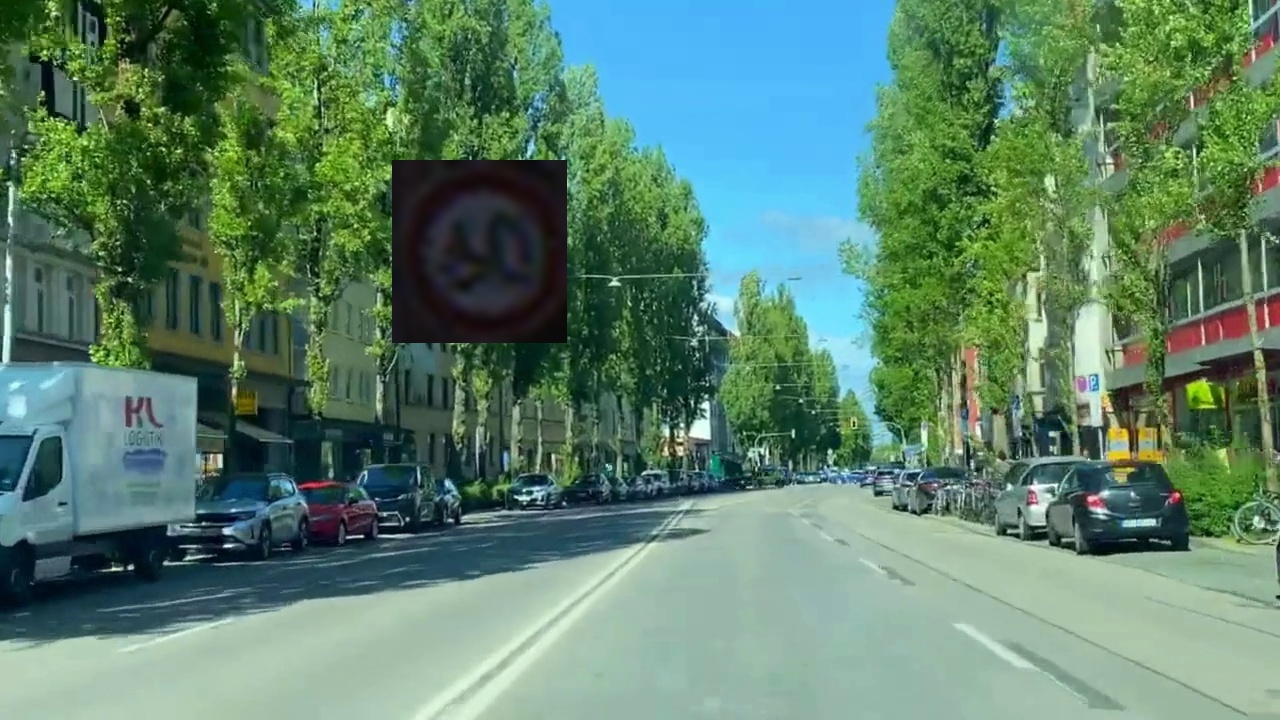Speed 60: (392, 160, 567, 343)
